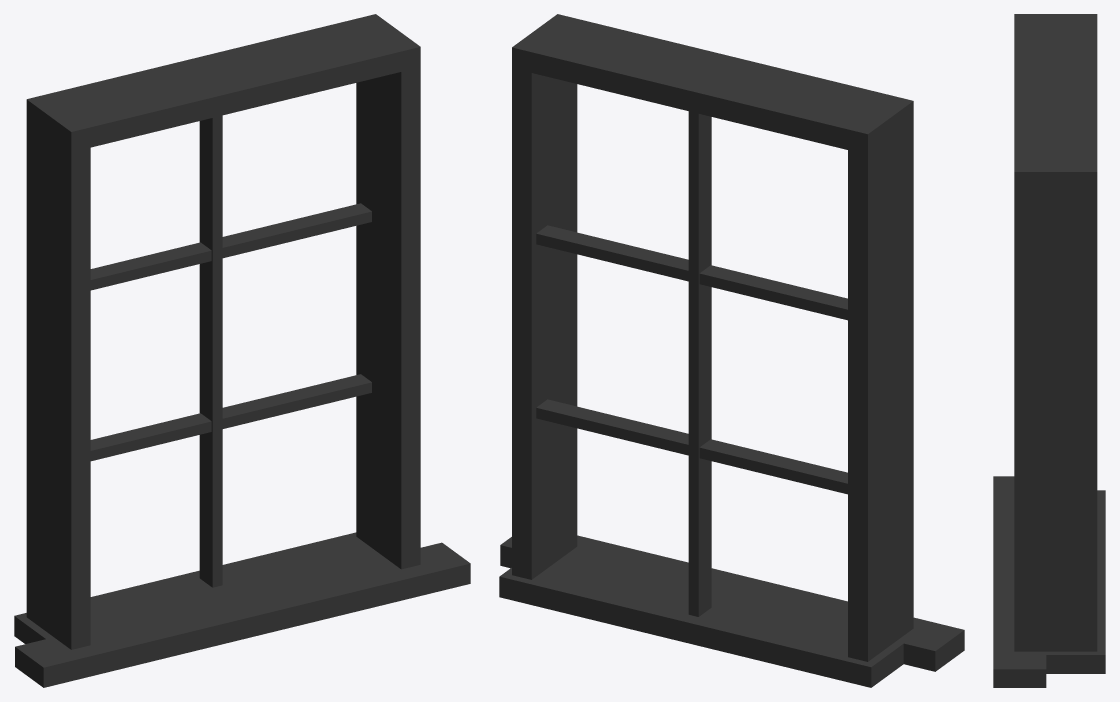
File: Window2_01.fbx
3 renders of one model, left to right at view 1: azimuth 30°, elevation 25°; view 2: azimuth 150°, elevation 25°; view 3: azimuth 270°, elevation 25°, orthographic. The views are drawn at different scales.
Parts seen in each view (by area): view 1: Window2_01; view 2: Window2_01; view 3: Window2_01.
Boxes of the visible parts, x1,y1,x2,y2 form: Window2_01: (14, 14, 470, 687); Window2_01: (499, 14, 964, 687); Window2_01: (993, 14, 1105, 687).
Size of the model in its own units: 110 by 133 by 27.
